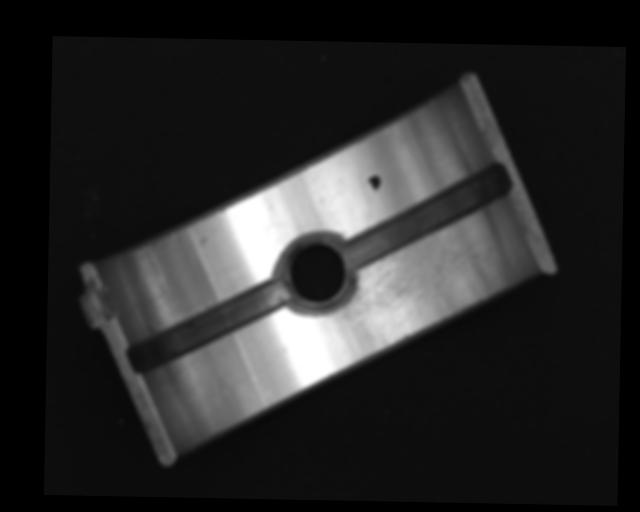blot: (366, 173, 381, 193)
bruise: (199, 237, 210, 248)
gap: (346, 161, 509, 271), (129, 281, 289, 376)
hole: (280, 235, 354, 315)
scratch: (321, 221, 493, 361)
